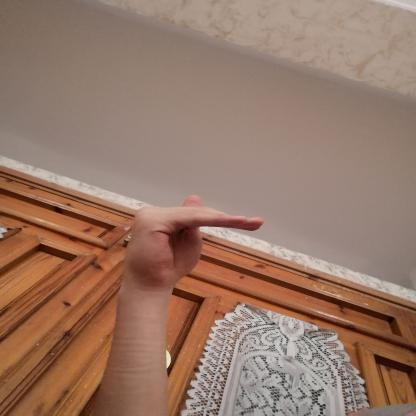KHAA: (116, 188, 284, 294)
